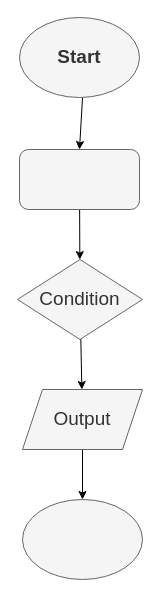
Image size: 160x597. Some labels were removed from this diagram. The box of each missing label's shape, as (x1, y1, x2, y2) in pixels:
End: (22, 498, 142, 580)
Process: (18, 148, 140, 210)
